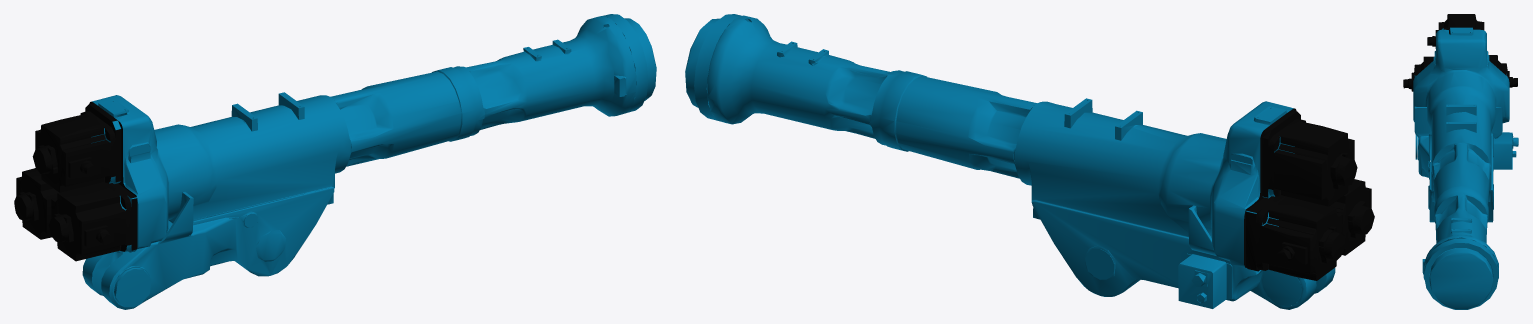
3 views of the same model, side by side, from view 1: azimuth 30°, elevation 25°; view 2: azimuth 150°, elevation 25°; view 3: azimuth 270°, elevation 25° (orthographic). The views are drawn at different scales.
Visible parts, largest first — view 1: mh00400-j00_lk3; view 2: mh00400-j00_lk3; view 3: mh00400-j00_lk3.
Boxes of the visible parts, x1=… form: mh00400-j00_lk3: x1=14, y1=14, x2=656, y2=309; mh00400-j00_lk3: x1=685, y1=14, x2=1374, y2=309; mh00400-j00_lk3: x1=1403, y1=14, x2=1518, y2=309.
Size of the model in its own units: 2.05 by 0.4538 by 0.6104.
